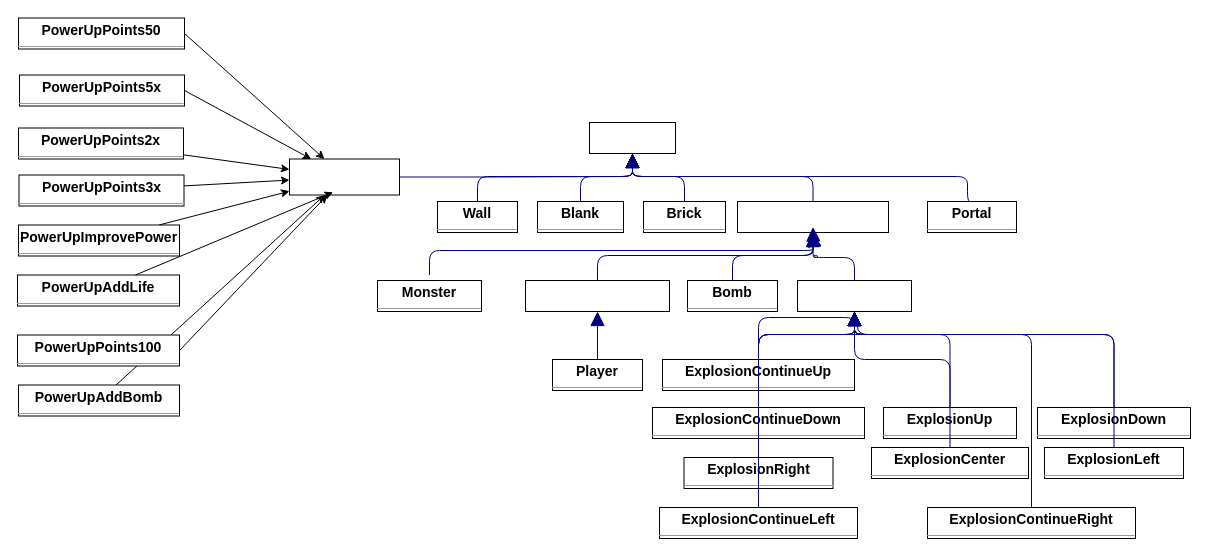
Some shapes in this 1208 by 556 pixel diagram are drawn without their labels. Here are the shapes that lost their labels. From the top down, the box of each, then its label:
(588, 122, 676, 154): Block
(288, 158, 400, 195): PowerUp
(736, 200, 888, 232): AnimatedBlock
(524, 280, 670, 312): OrientedBlock
(796, 280, 912, 312): Explosion
